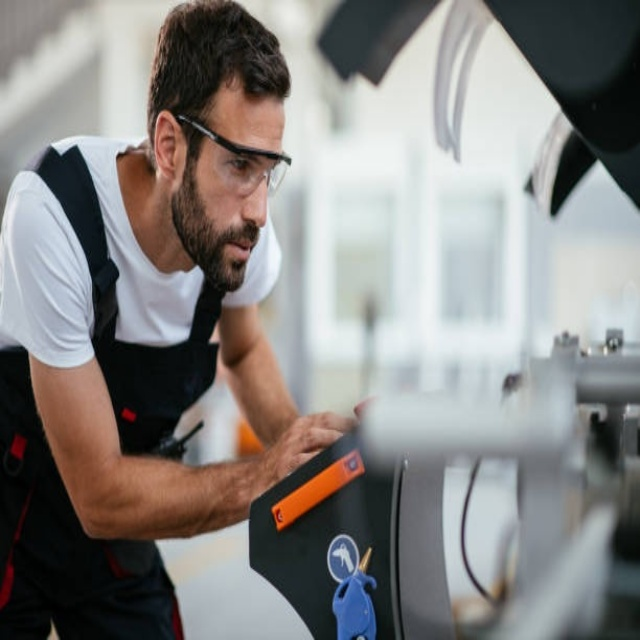Gafas: (175, 113, 291, 195)
Guantes: (333, 570, 378, 640)
Sin_guantes: (259, 409, 363, 496)
Sin_mascara: (206, 227, 260, 284)
